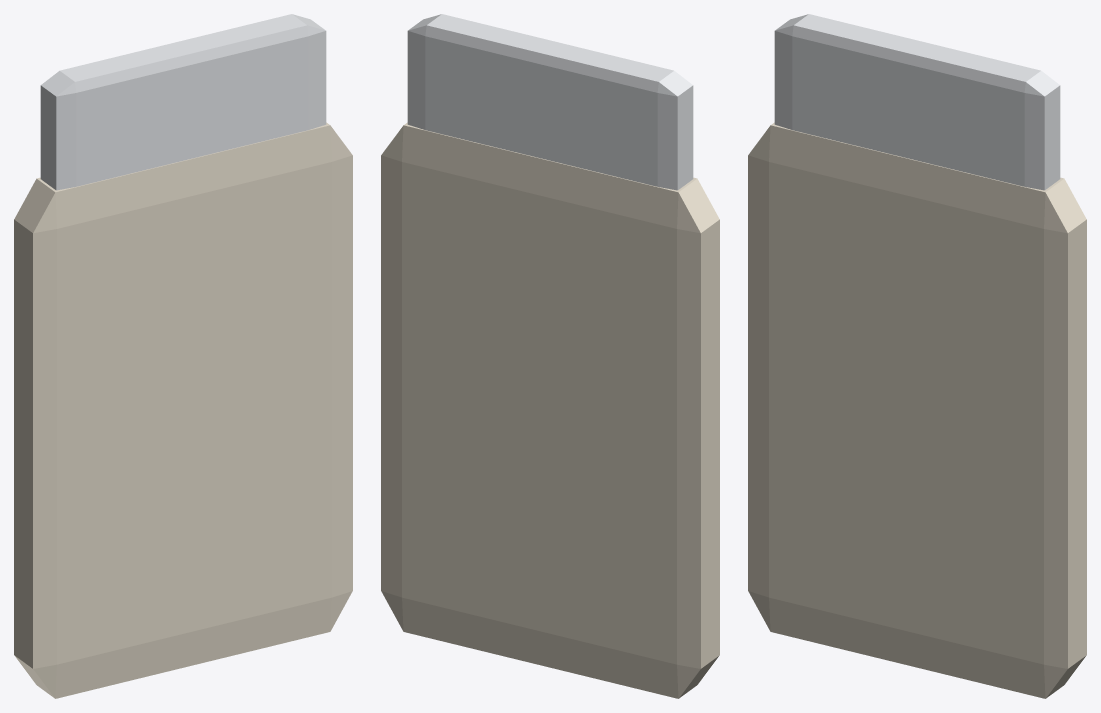
The model's file is b17_tennis_racket.glb.
3 views of the same model, side by side, from view 1: azimuth 30°, elevation 25°; view 2: azimuth 150°, elevation 25°; view 3: azimuth 330°, elevation 25° (orthographic).
Parts seen in each view (by area): view 1: b17_tennis_racket; view 2: b17_tennis_racket; view 3: b17_tennis_racket.
Boxes of the visible parts, box(x1,y1,x2,y2) form: b17_tennis_racket: box(14, 14, 352, 698); b17_tennis_racket: box(381, 14, 719, 698); b17_tennis_racket: box(748, 14, 1086, 698).
Bounding box in the file's own units: 0.302 × 0.551 × 0.036.
